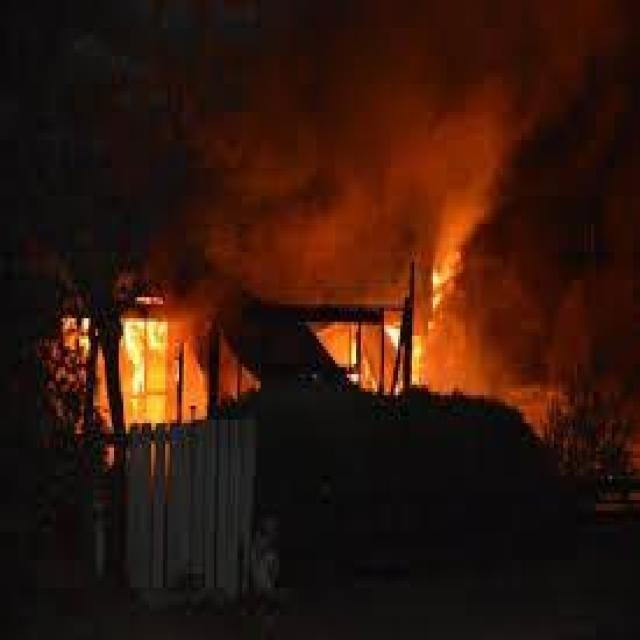Fire: (116, 283, 170, 400), (389, 306, 423, 375), (432, 256, 461, 308)
Smoke: (462, 10, 634, 412), (196, 5, 430, 288)
